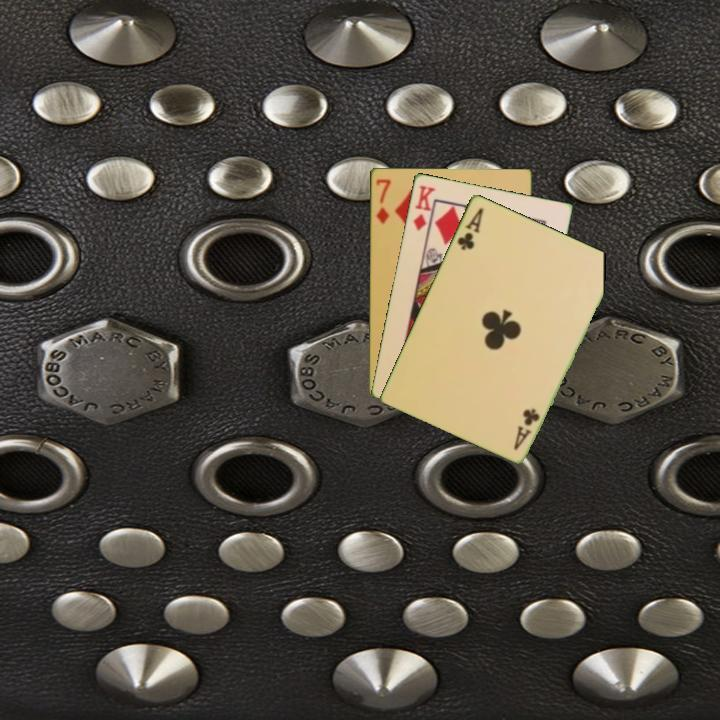7d: (372, 175, 393, 226)
Ac: (454, 204, 486, 253), (510, 404, 542, 453)
Kd: (409, 181, 438, 233)
